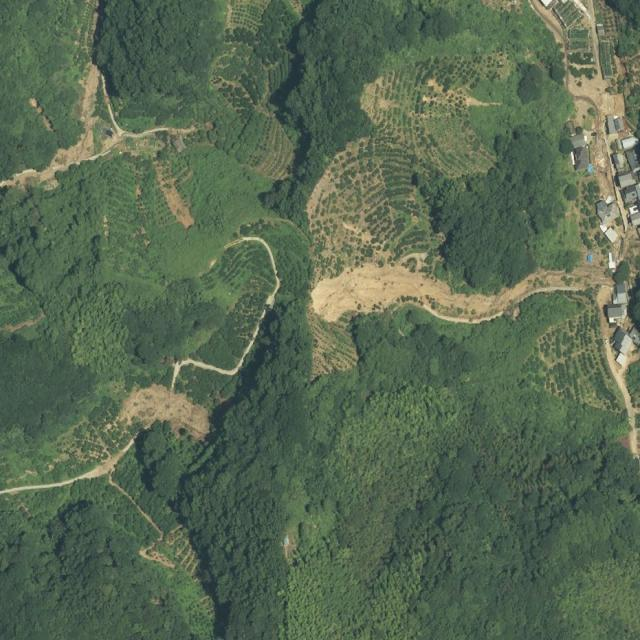landslide: (311, 254, 586, 323), (1, 62, 100, 188), (118, 385, 210, 440)
